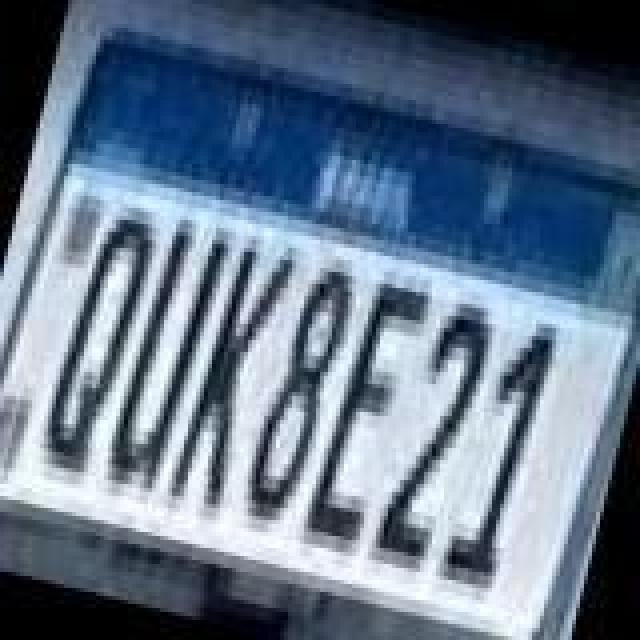1: (436, 310, 564, 594)
2: (366, 292, 498, 572)
8: (230, 250, 362, 542)
E: (298, 270, 438, 562)
K: (164, 234, 300, 526)
Q: (30, 200, 162, 488)
U: (98, 208, 238, 512)
